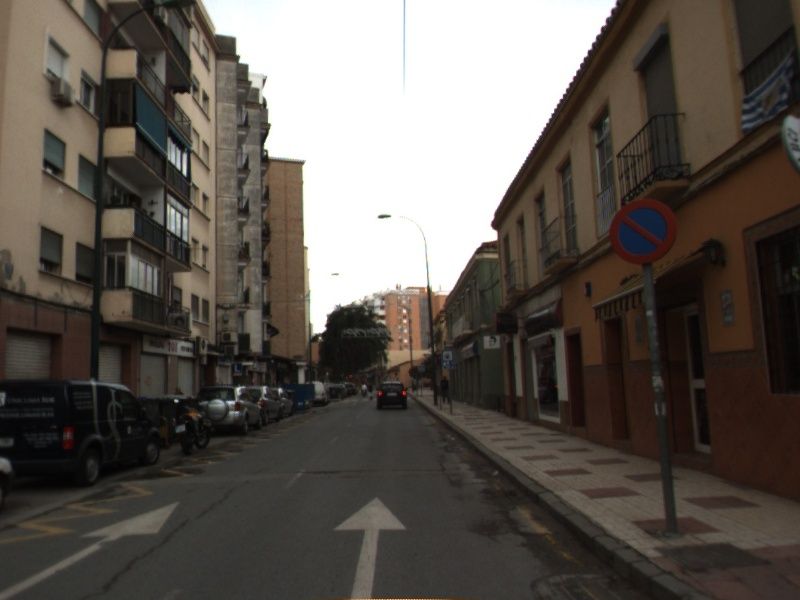STRAIGHT: (1, 499, 182, 600), (330, 494, 409, 600)
